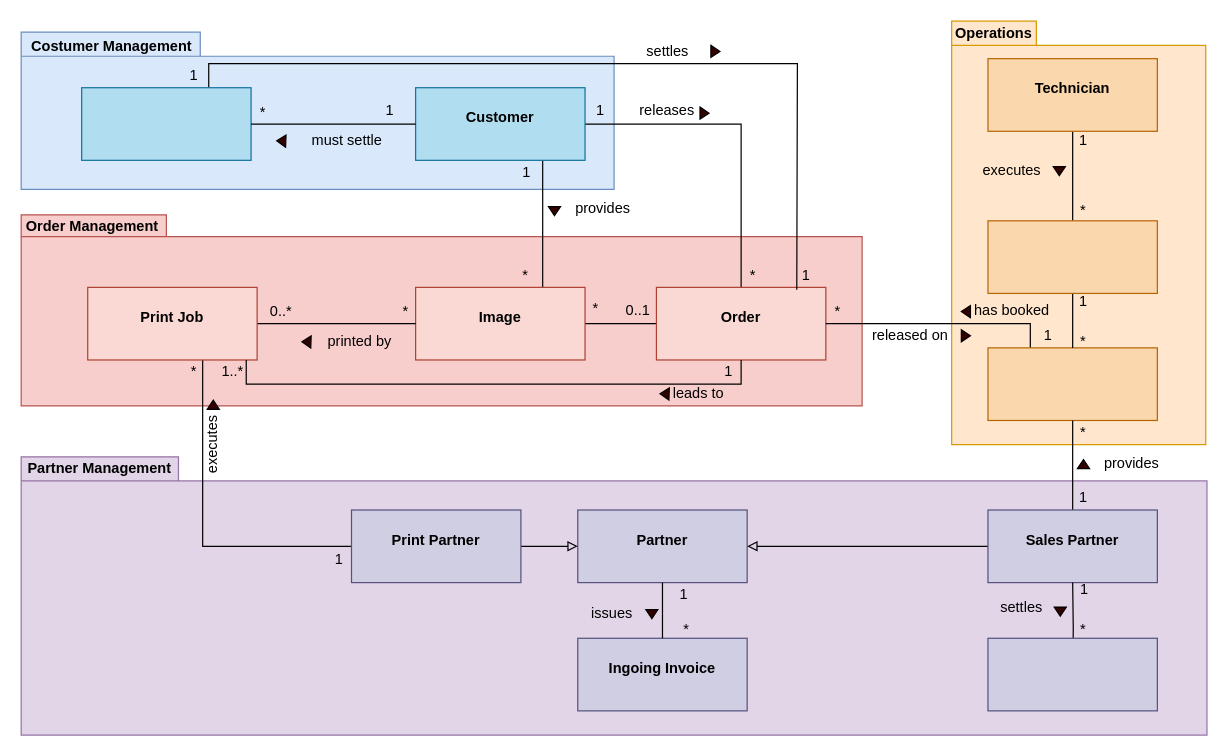
Some shapes in this 1228 by 756 pixel diagram are drawn without their labels. Here are the shapes that lost their labels. From the top down, the box of each, then its label:
(80, 87, 251, 160): Invoice
(987, 220, 1157, 293): Maintenance Job
(987, 347, 1157, 420): Sales Unit
(987, 637, 1157, 711): Outgoing Invoice
